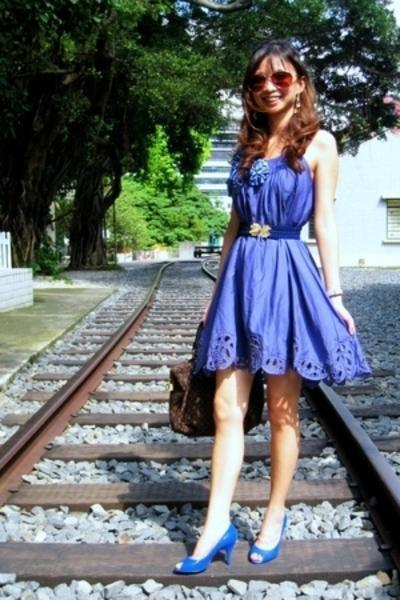bag: (156, 350, 270, 437)
dress: (183, 156, 369, 397)
shoe: (179, 524, 237, 571)
sunglass: (271, 60, 299, 97)
